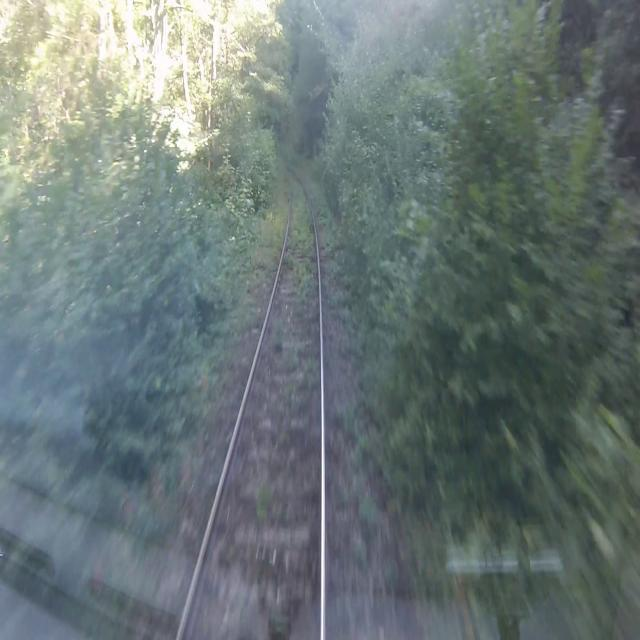Plant: (309, 172, 377, 471), (285, 171, 314, 311), (273, 381, 295, 450), (300, 356, 318, 411), (267, 605, 290, 639), (254, 482, 270, 521), (360, 491, 378, 524), (285, 342, 300, 372), (353, 540, 368, 568), (271, 319, 284, 351), (341, 485, 350, 505)
